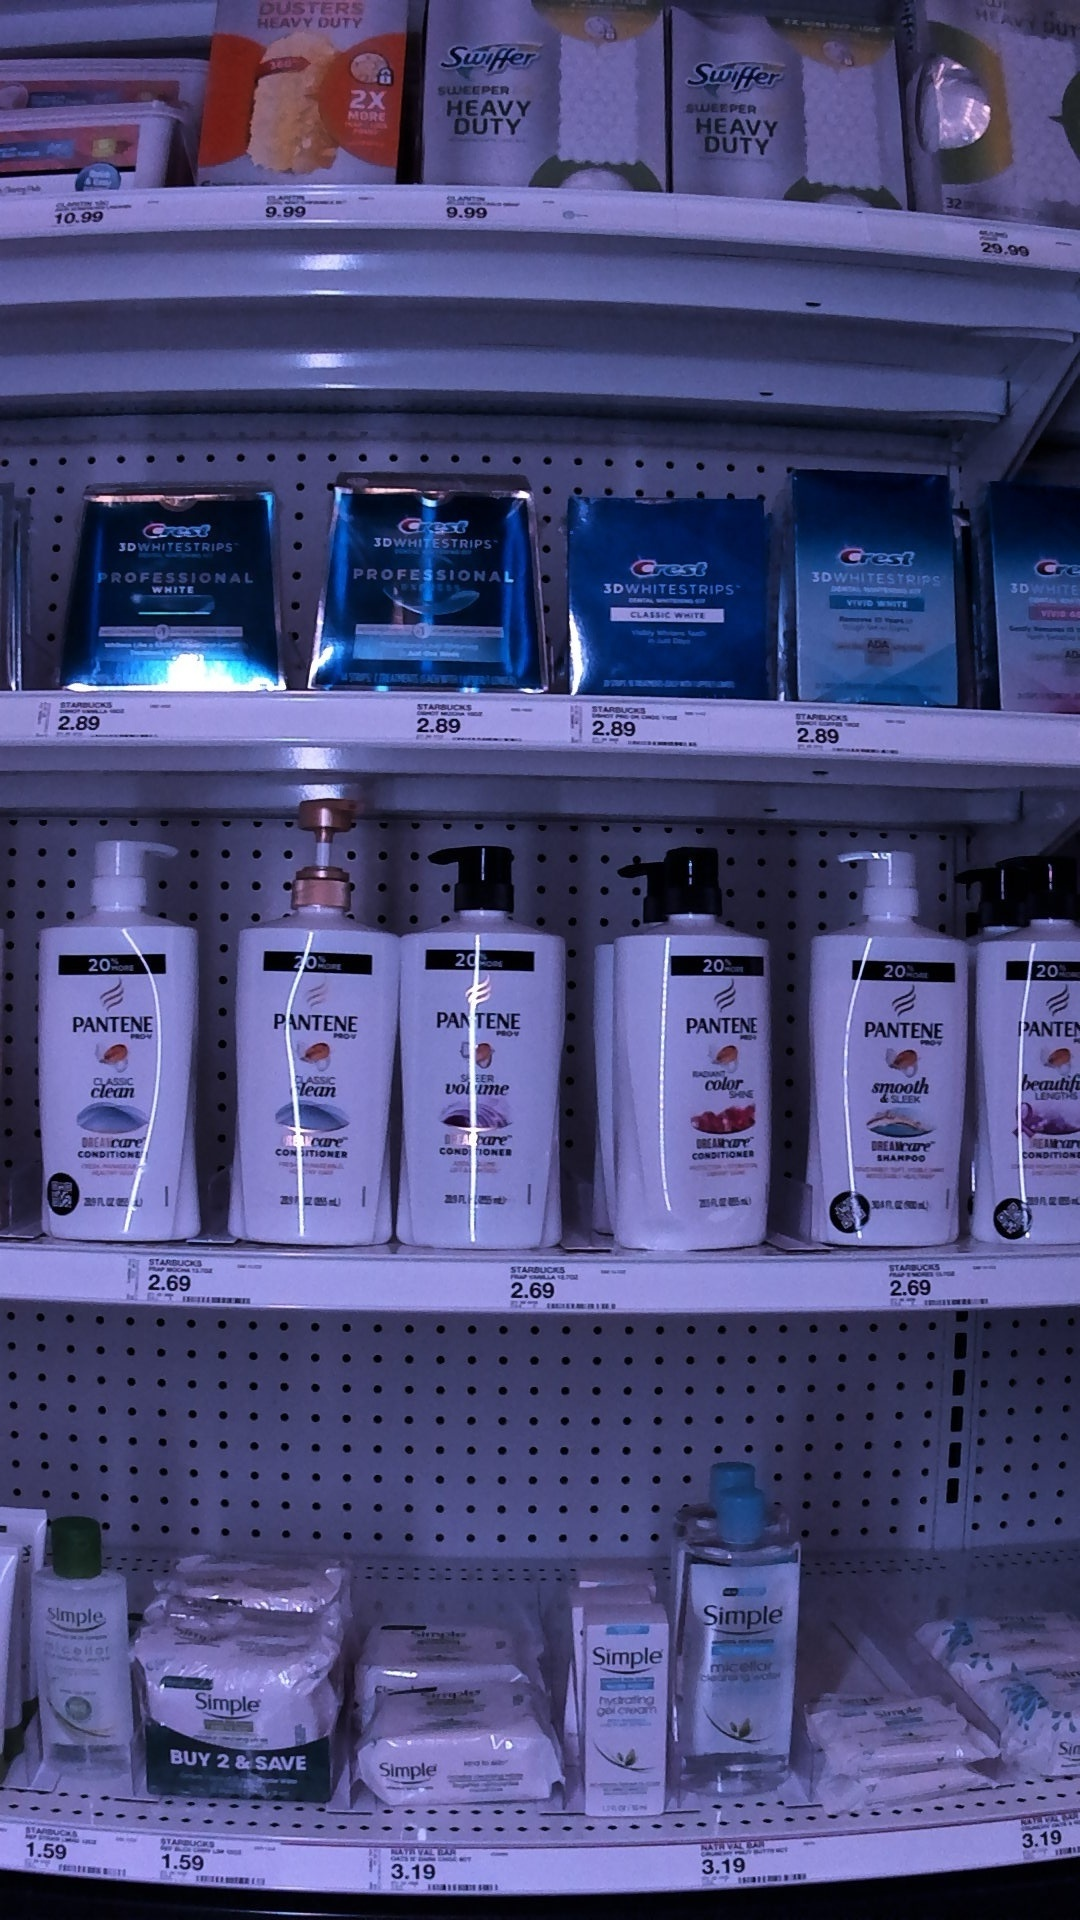ptag: (568, 698, 717, 757), (149, 1822, 266, 1895), (873, 1253, 1009, 1315), (120, 1255, 264, 1311), (367, 1844, 502, 1902), (406, 694, 542, 749), (498, 1266, 633, 1320), (44, 688, 173, 744), (786, 698, 902, 757), (688, 1837, 814, 1888), (13, 1824, 124, 1880), (440, 189, 524, 240), (953, 225, 1055, 266), (49, 191, 140, 235), (258, 191, 349, 235)
